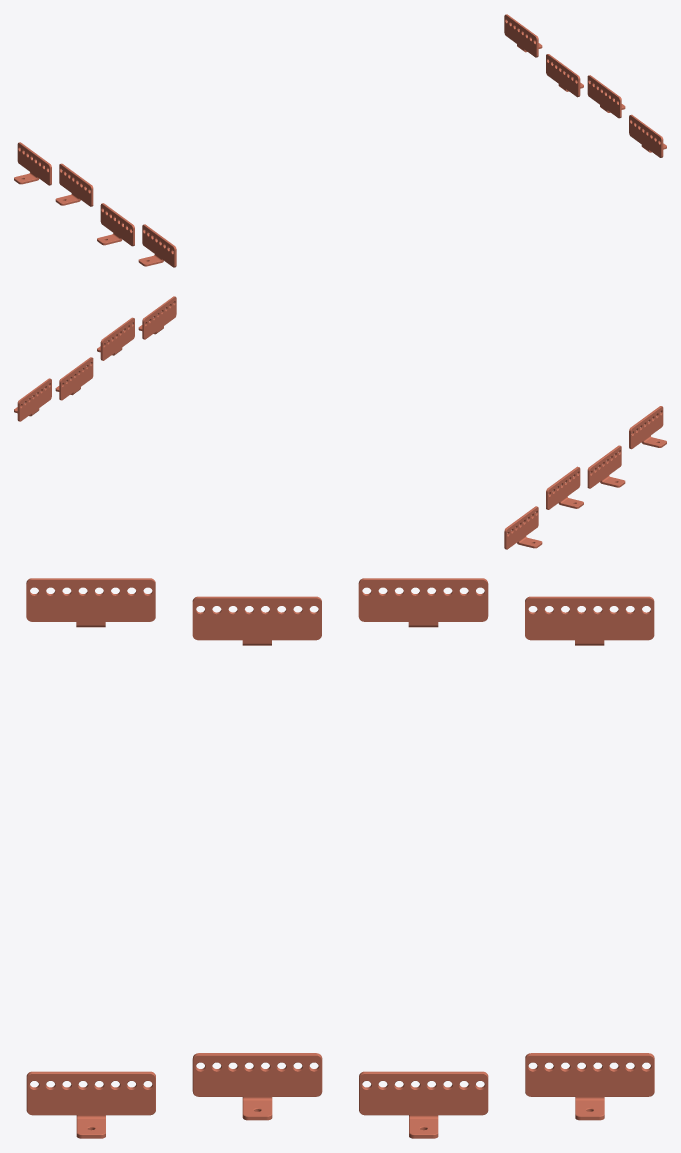
Rendered from BATTERY CRATE STACK V2__BATTERY CRATE L4__BATTERY MODULE V2 CLAMPS__BUSBAR V2 ASM__BUSBAR V2 SINGLE.glb.
3 views of the same model, one above another, from view 1: azimuth 30°, elevation 25°; view 2: azimuth 150°, elevation 25°; view 3: azimuth 270°, elevation 25° (orthographic). The views are drawn at different scales.
Parts seen in each view (by area): view 1: BUSBAR V2 SINGLE 2, BUSBAR V2 SINGLE 7, BUSBAR V2 SINGLE 6, BUSBAR V2 SINGLE 3, BUSBAR V2 SINGLE 8, BUSBAR V2 SINGLE 4, BUSBAR V2 SINGLE 1, BUSBAR V2 SINGLE 5; view 2: BUSBAR V2 SINGLE 3, BUSBAR V2 SINGLE 7, BUSBAR V2 SINGLE 2, BUSBAR V2 SINGLE 6, BUSBAR V2 SINGLE 5, BUSBAR V2 SINGLE 1, BUSBAR V2 SINGLE 8, BUSBAR V2 SINGLE 4; view 3: BUSBAR V2 SINGLE 1, BUSBAR V2 SINGLE 5, BUSBAR V2 SINGLE 4, BUSBAR V2 SINGLE 8, BUSBAR V2 SINGLE 3, BUSBAR V2 SINGLE 7, BUSBAR V2 SINGLE 6, BUSBAR V2 SINGLE 2.
Boxes of the visible parts, bbox=[...] form: BUSBAR V2 SINGLE 2: bbox=[138, 224, 176, 267]; BUSBAR V2 SINGLE 7: bbox=[14, 142, 51, 185]; BUSBAR V2 SINGLE 6: bbox=[55, 163, 93, 206]; BUSBAR V2 SINGLE 3: bbox=[97, 203, 134, 246]; BUSBAR V2 SINGLE 8: bbox=[504, 14, 542, 57]; BUSBAR V2 SINGLE 4: bbox=[587, 75, 625, 118]; BUSBAR V2 SINGLE 1: bbox=[629, 114, 666, 157]; BUSBAR V2 SINGLE 5: bbox=[546, 54, 583, 97]; BUSBAR V2 SINGLE 3: bbox=[587, 445, 625, 488]; BUSBAR V2 SINGLE 7: bbox=[504, 506, 542, 549]; BUSBAR V2 SINGLE 2: bbox=[629, 406, 666, 449]; BUSBAR V2 SINGLE 6: bbox=[546, 466, 583, 509]; BUSBAR V2 SINGLE 5: bbox=[55, 357, 93, 400]; BUSBAR V2 SINGLE 1: bbox=[138, 296, 176, 339]; BUSBAR V2 SINGLE 8: bbox=[14, 378, 51, 421]; BUSBAR V2 SINGLE 4: bbox=[97, 317, 134, 360]; BUSBAR V2 SINGLE 1: bbox=[26, 1071, 155, 1138]; BUSBAR V2 SINGLE 5: bbox=[359, 1071, 488, 1138]; BUSBAR V2 SINGLE 4: bbox=[192, 1053, 322, 1120]; BUSBAR V2 SINGLE 8: bbox=[525, 1053, 654, 1120]; BUSBAR V2 SINGLE 3: bbox=[192, 596, 321, 645]; BUSBAR V2 SINGLE 7: bbox=[525, 596, 654, 645]; BUSBAR V2 SINGLE 6: bbox=[358, 578, 488, 627]; BUSBAR V2 SINGLE 2: bbox=[26, 578, 155, 627].
Bounding box in the file's own units: 1.04 × 0.0639 × 0.5425.
